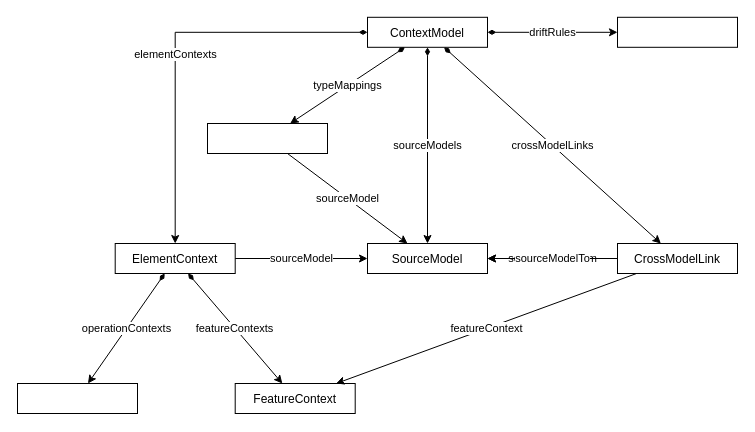
This 755x432 diagram has some shape labels left out. The centre of each missing label's shape, as x and y in pixels:
"DriftRule" goes at (677,31).
"OperationContext" goes at (77,398).
"TypeMapping" goes at (267,138).
